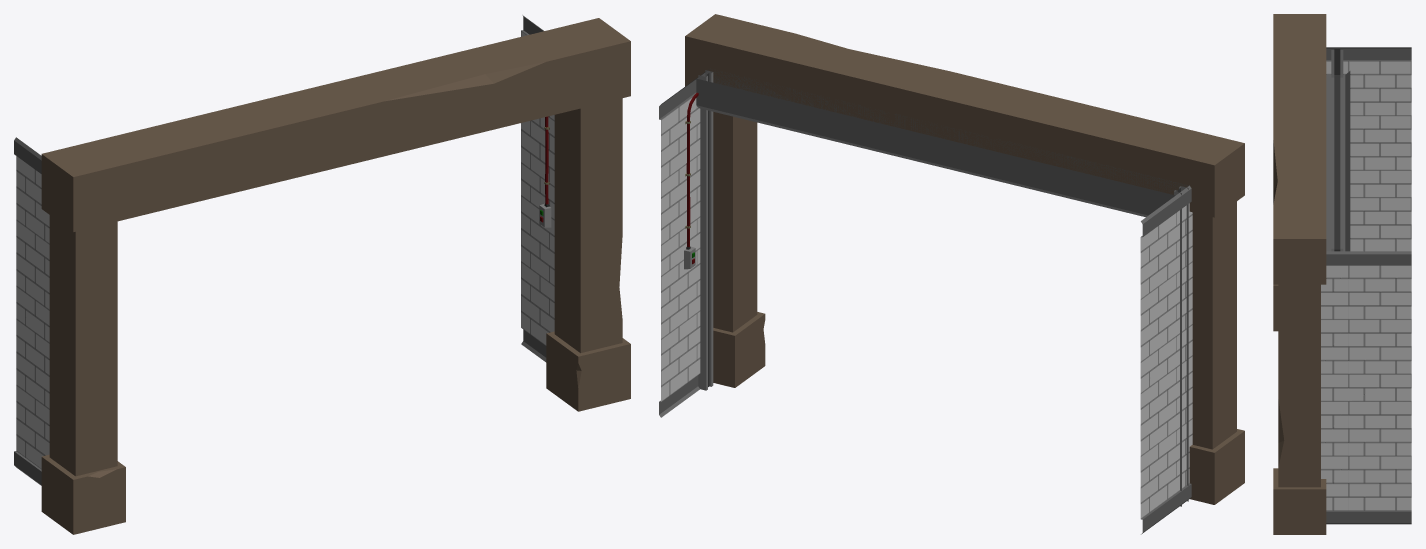
The model's file is SW_ENV_StreetEntrance_03.fbx.
3 renders of one model, left to right at view 1: azimuth 30°, elevation 25°; view 2: azimuth 150°, elevation 25°; view 3: azimuth 270°, elevation 25°, orthographic. The views are drawn at different scales.
Parts seen in each view (by area): view 1: SW_ENV_StreetEntrance_03; view 2: SW_ENV_StreetEntrance_03; view 3: SW_ENV_StreetEntrance_03.
Boxes of the visible parts, <box> form: SW_ENV_StreetEntrance_03: <box>14,15,630,534</box>; SW_ENV_StreetEntrance_03: <box>659,14,1244,534</box>; SW_ENV_StreetEntrance_03: <box>1273,14,1411,534</box>.
Size of the model in its own units: 530 by 325 by 138.
